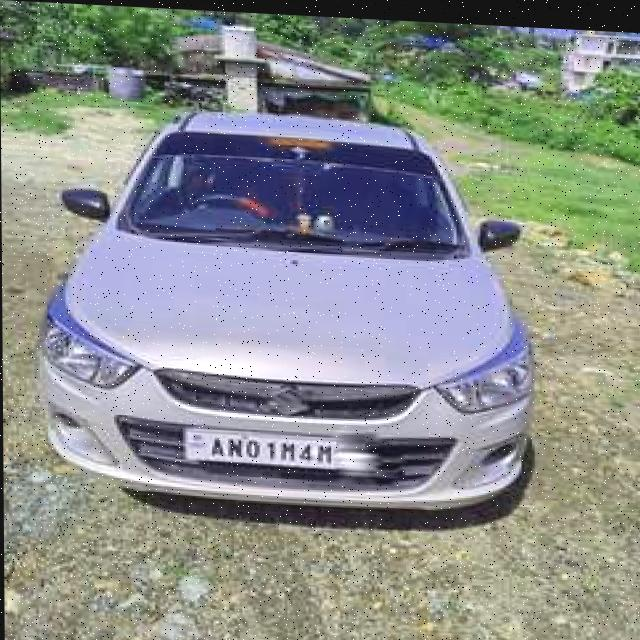plate: (180, 422, 339, 468)
